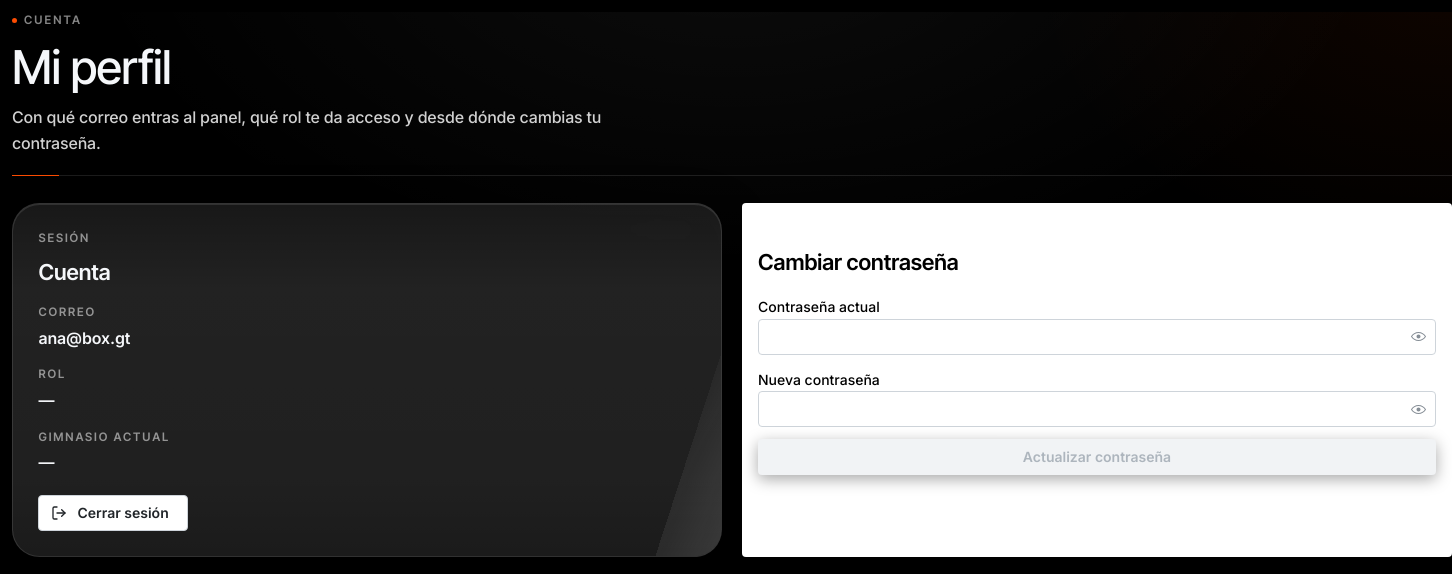
Test: Mi perfil · cambio de contraseña tras un restablecimiento › sin el flag, si el backend rechaza la nueva dice por qué, no «verifica la actual»
Type "vieja-segura" into the password field labelled "Contraseña actual" at [1097, 336], box [759,320,1435,354]
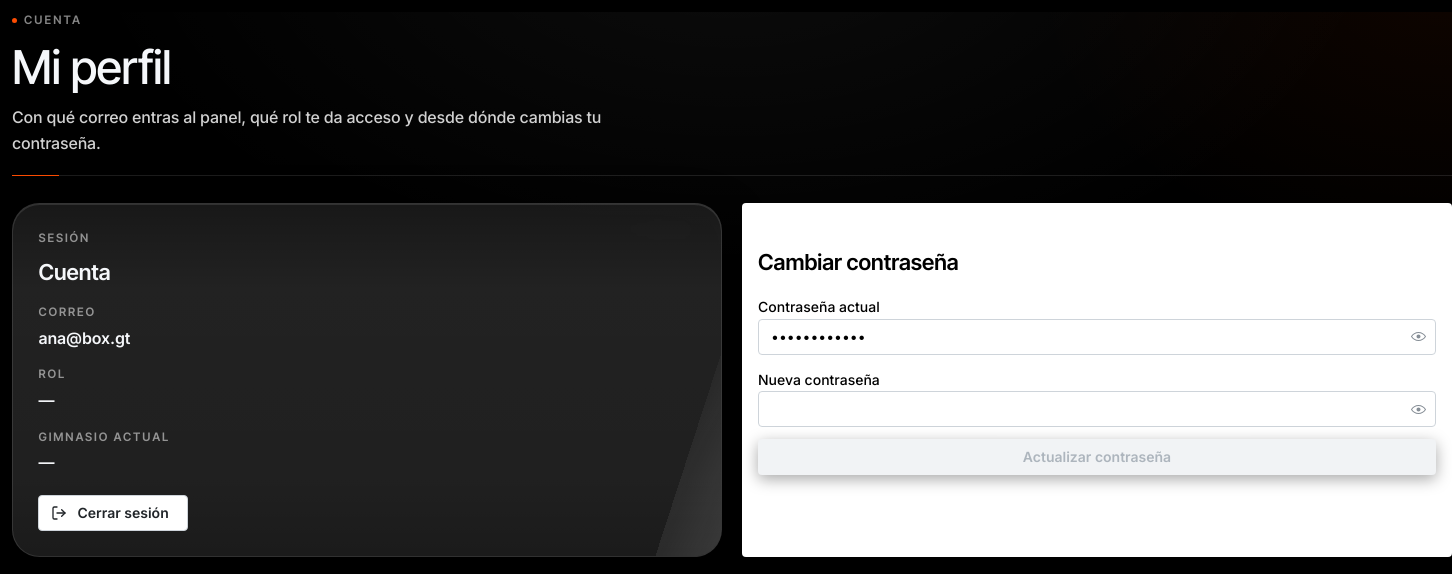
Type "12345678" into the password field labelled "Nueva contraseña" at [1097, 409], box [759,392,1435,426]
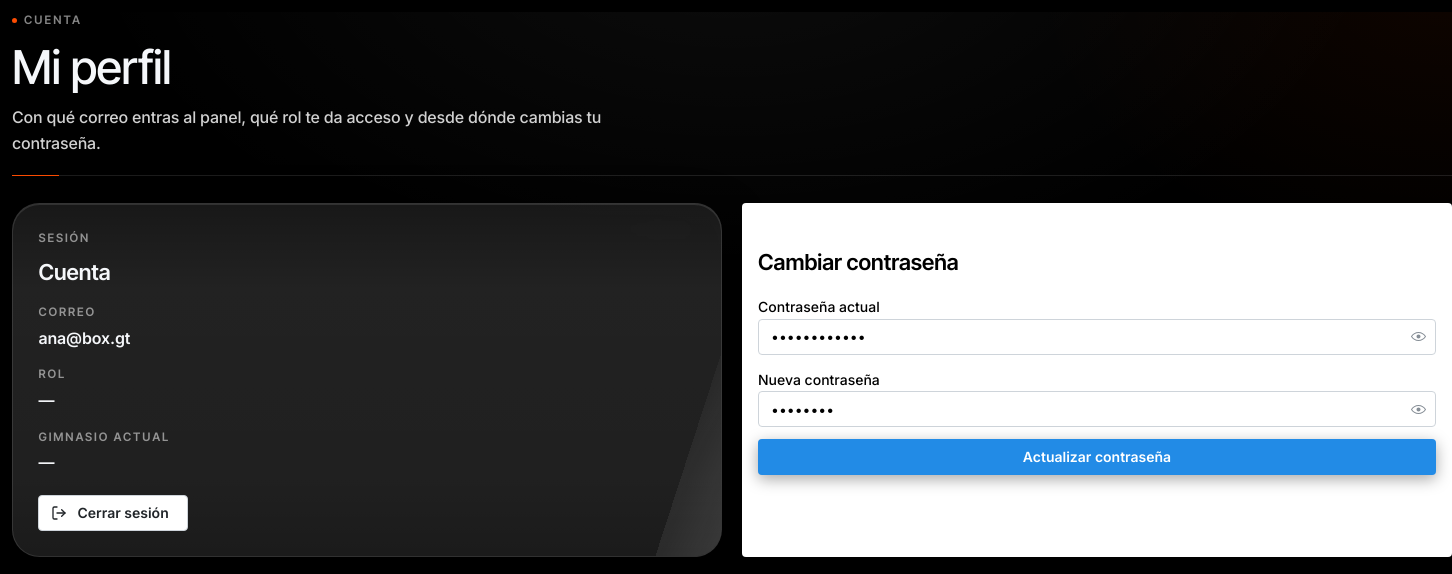
Click the button "Actualizar contraseña" at [1097, 457], box [758,439,1436,475]
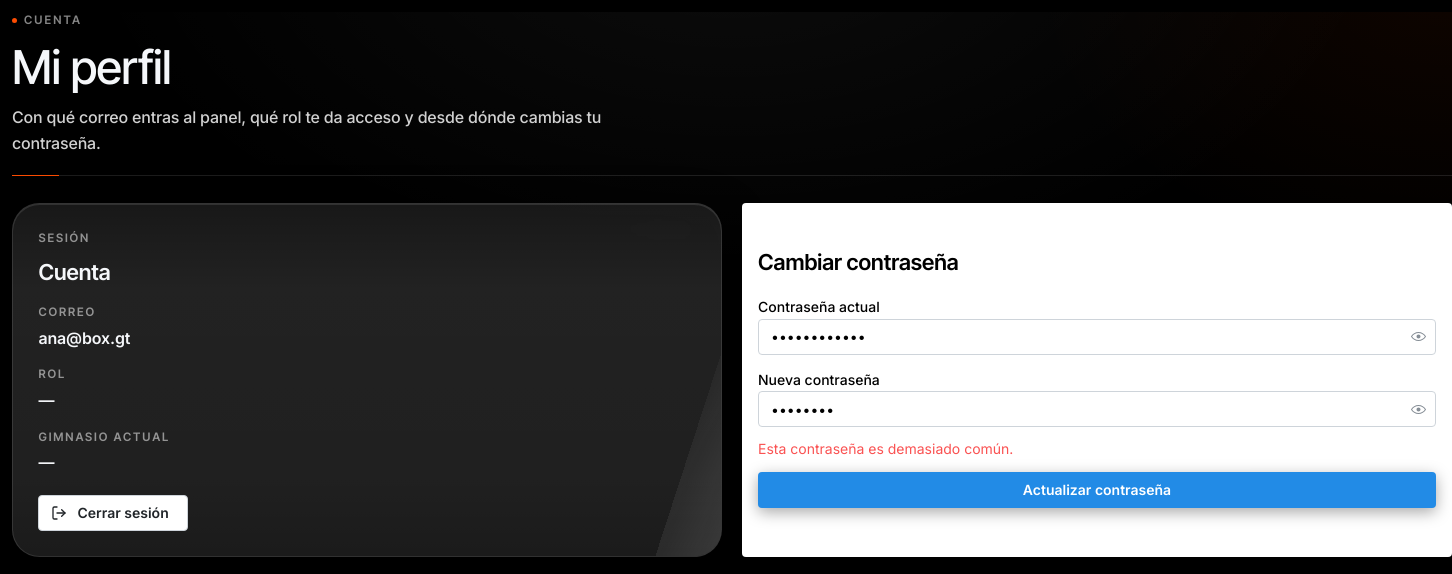
Expected: the text "Esta contraseña es demasiado común." is shown, [758,440,1013,457]
